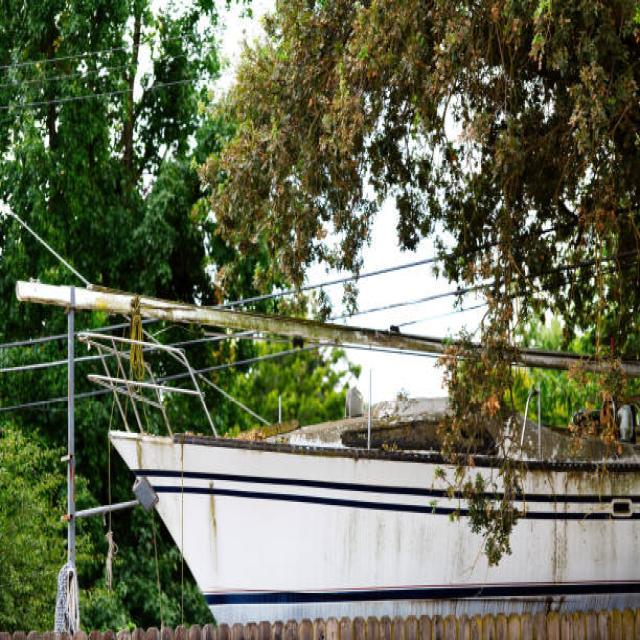Broken Pole: (17, 233, 638, 415)
